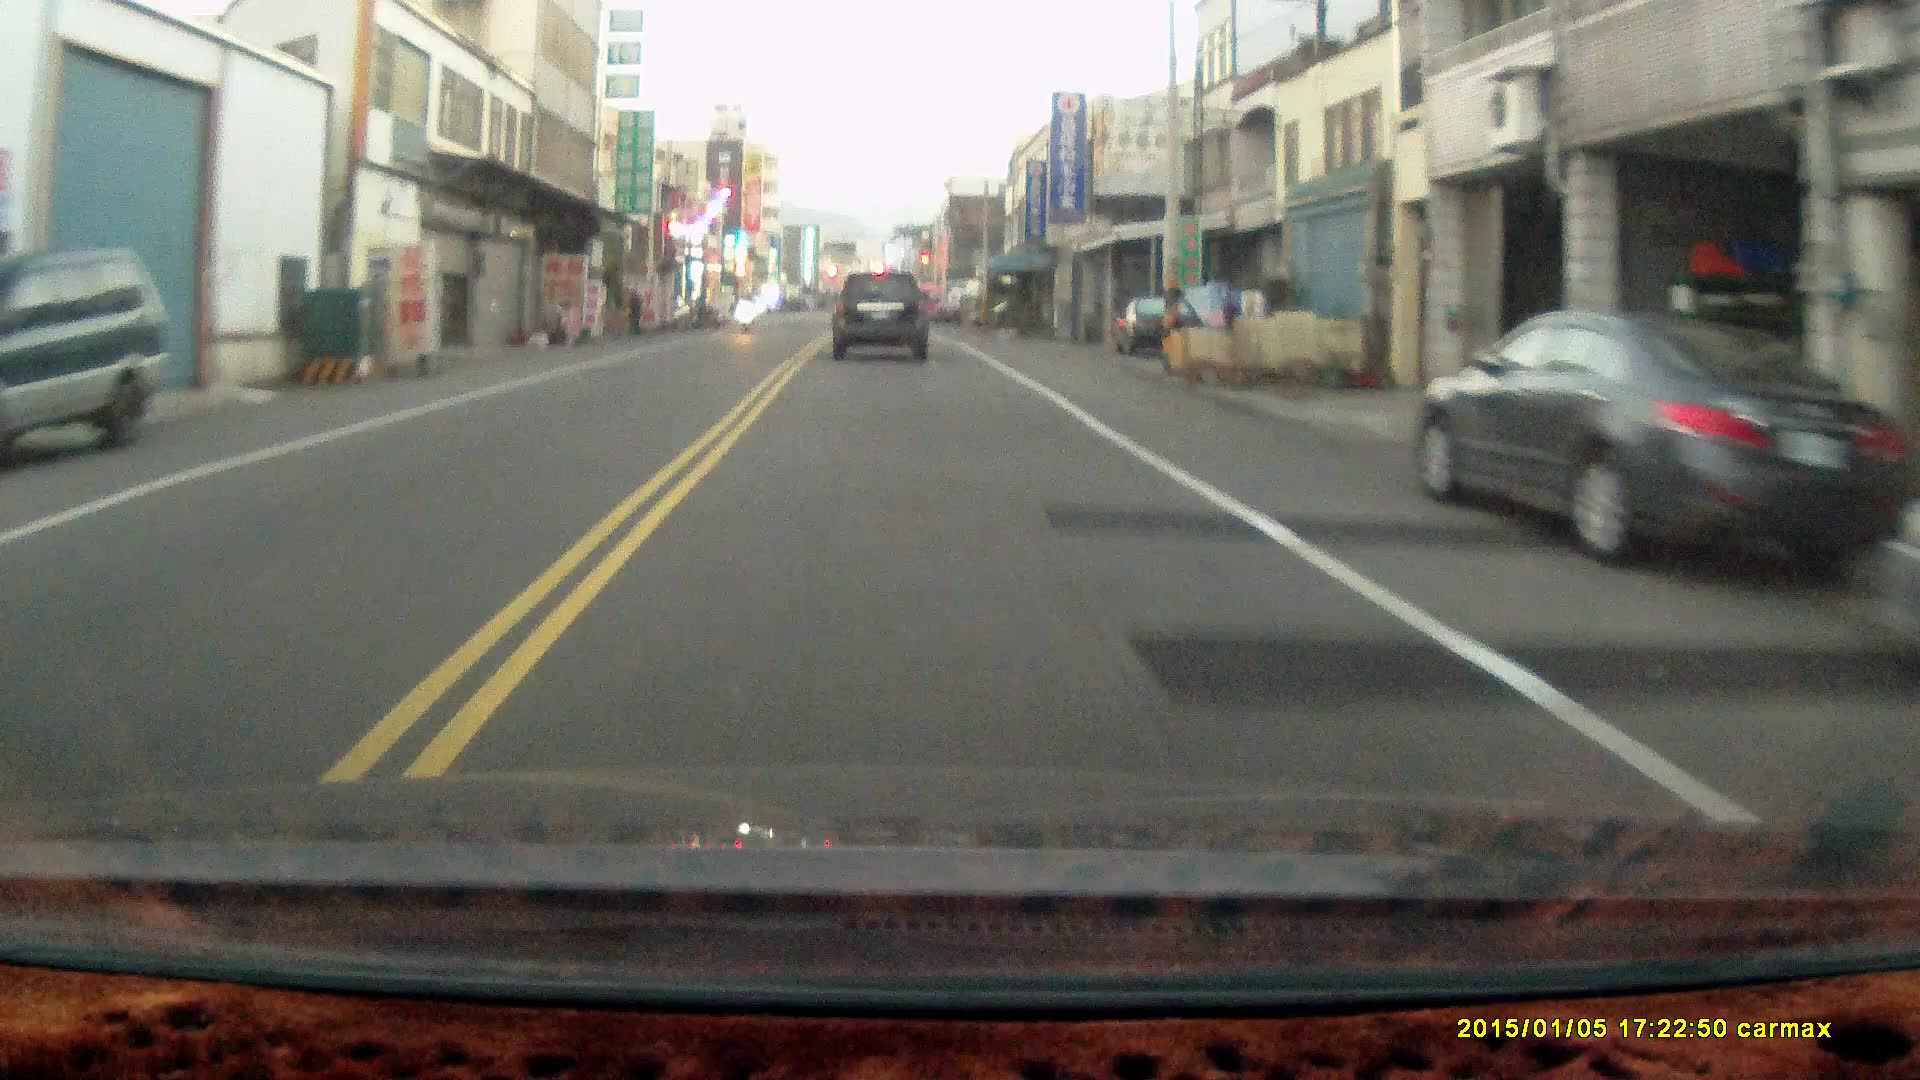pedestrian: (622, 284, 642, 334)
rider: (731, 286, 758, 334)
vehicle: (1413, 311, 1879, 583), (1, 250, 173, 469), (831, 275, 931, 369), (1114, 295, 1207, 357)
